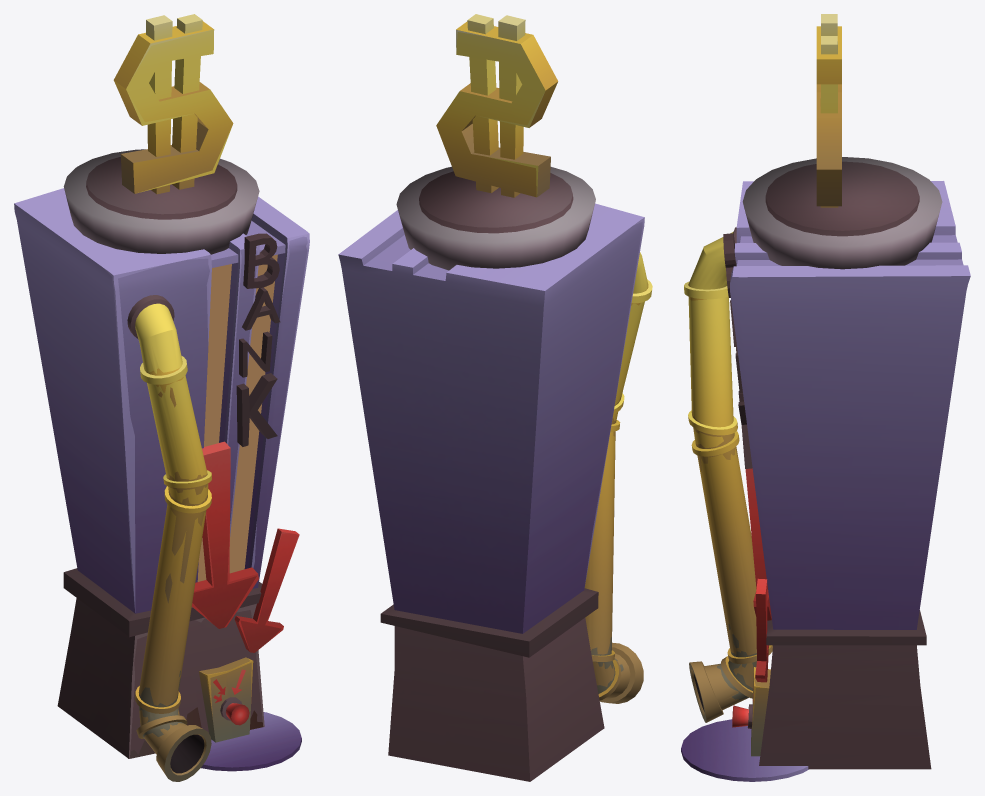
File: SM_Bank_bleu.fbx
3 renders of one model, left to right at view 1: azimuth 30°, elevation 25°; view 2: azimuth 150°, elevation 25°; view 3: azimuth 270°, elevation 25°, orthographic.
Parts seen in each view (by area): view 1: Cube.002, Cube.010; view 2: Cube.002, Cube.010; view 3: Cube.002, Cube.010.
Part boxes in pixels (x1,y1,x2,y2): Cube.002: [14, 188, 309, 781]; Cube.010: [63, 14, 259, 254]; Cube.002: [338, 203, 652, 781]; Cube.010: [396, 14, 595, 270]; Cube.002: [681, 181, 970, 781]; Cube.010: [742, 14, 942, 269].
Size of the model in its own units: 11.9 by 41.41 by 15.11.
